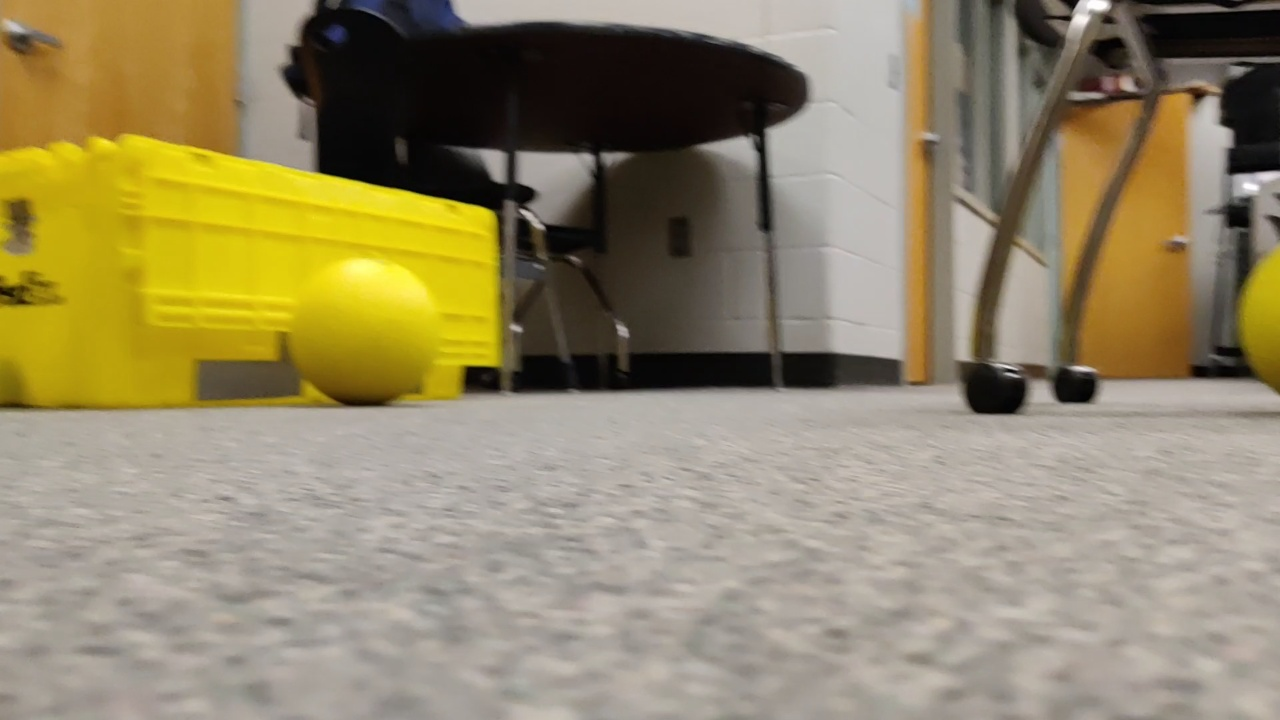Ball: (271, 251, 451, 415)
